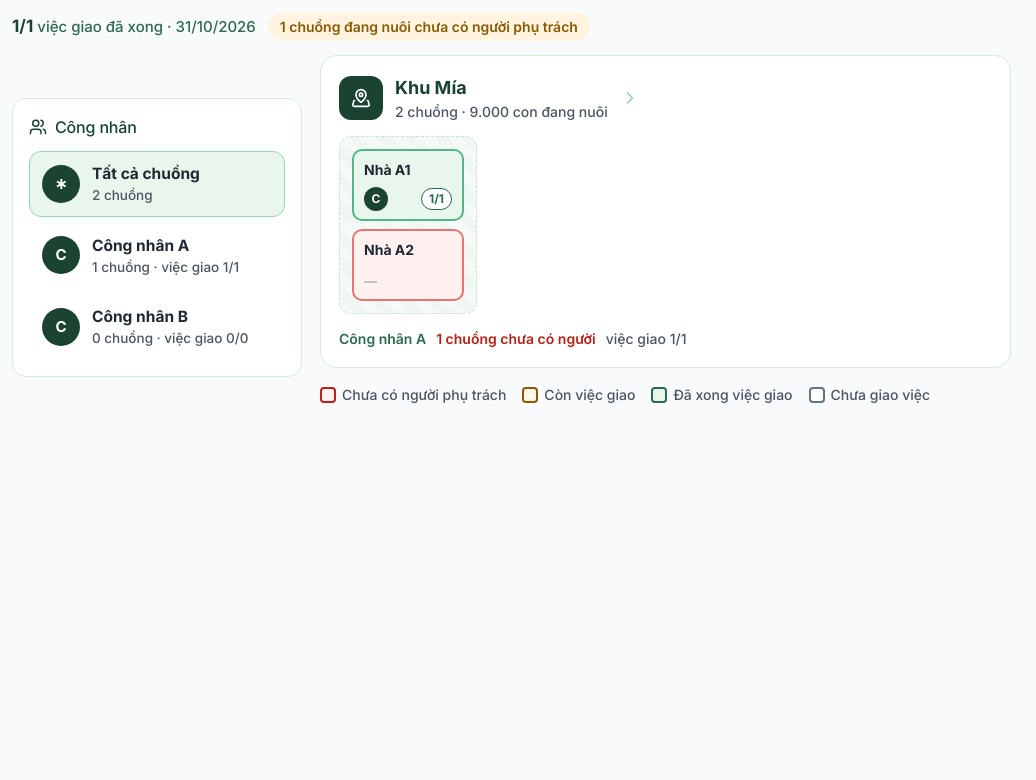
it: Phân công công việc (chủ trại) › starts on the area map, then opens the barns of an area
Check: the text "2 chuồng · 9.000 con đang nuôi" is shown, box [395,101,608,122]
Check: the element titled "Nhà A1: Đã xong việc giao" is shown, box [352,149,464,221]
Click the button with aria-label "Mở khu Khu Mía" at (666, 212), box [320,55,1011,368]
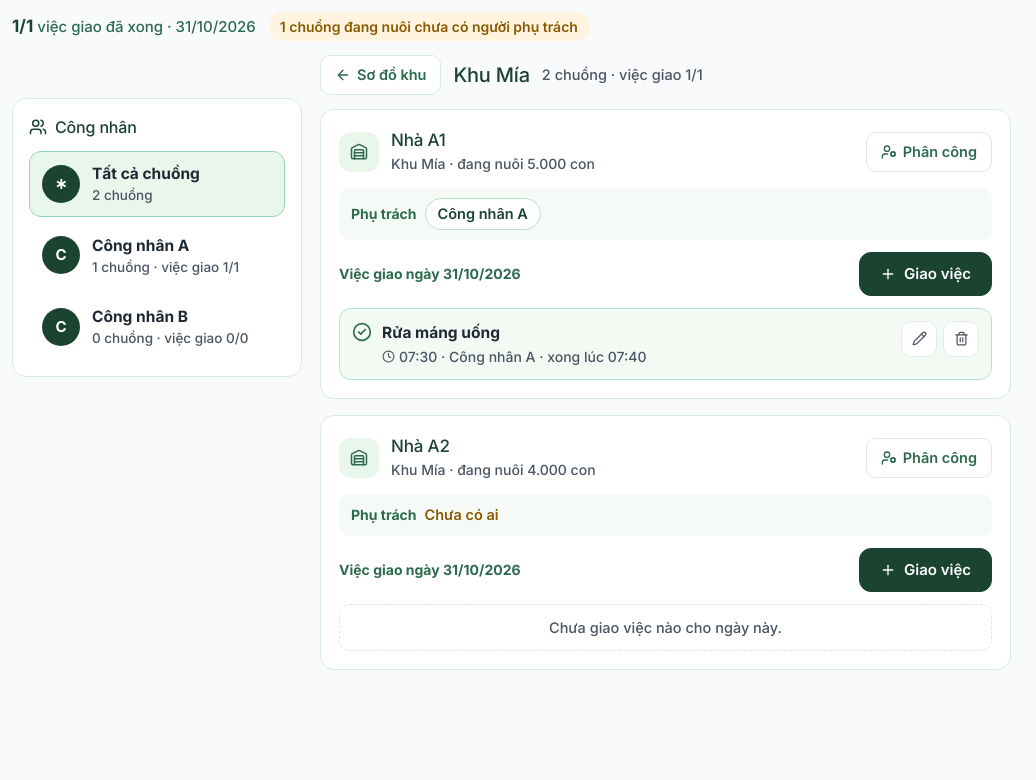
Check: the element named "Phân công Nhà A1" is shown, box [320,109,1011,399]
Click the button "Sơ đồ khu" at (381, 75), box [320,55,441,95]
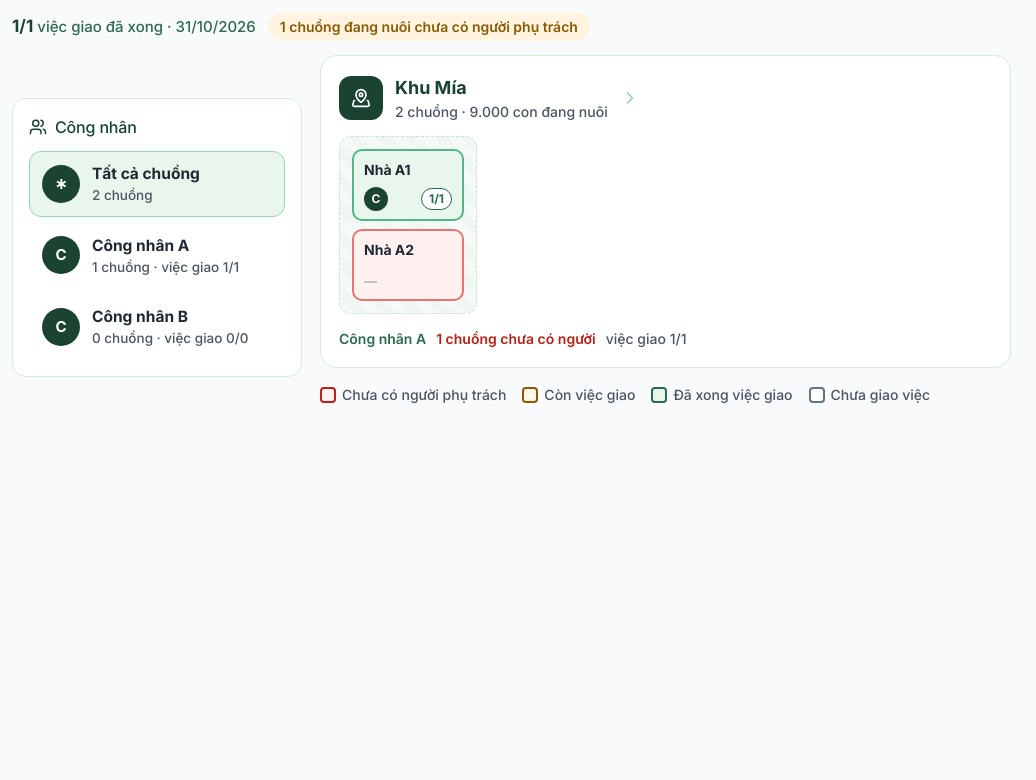
Check: the button with aria-label "Mở khu Khu Mía" is shown, box [320,55,1011,368]
